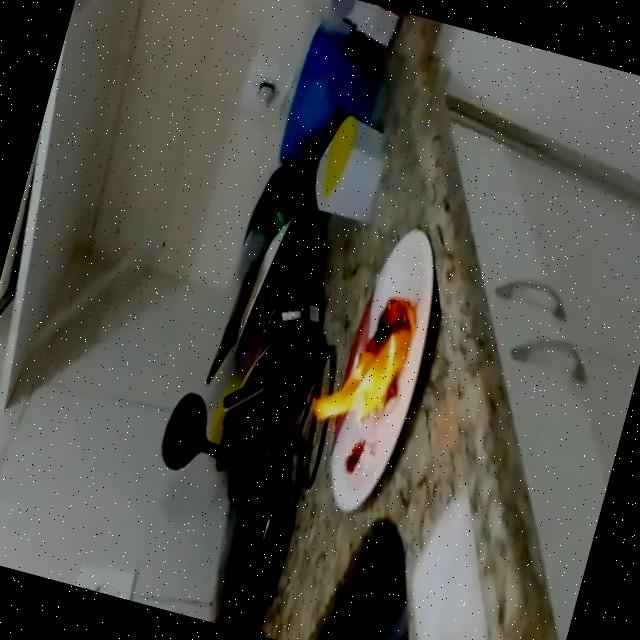fire: (305, 278, 423, 439)
